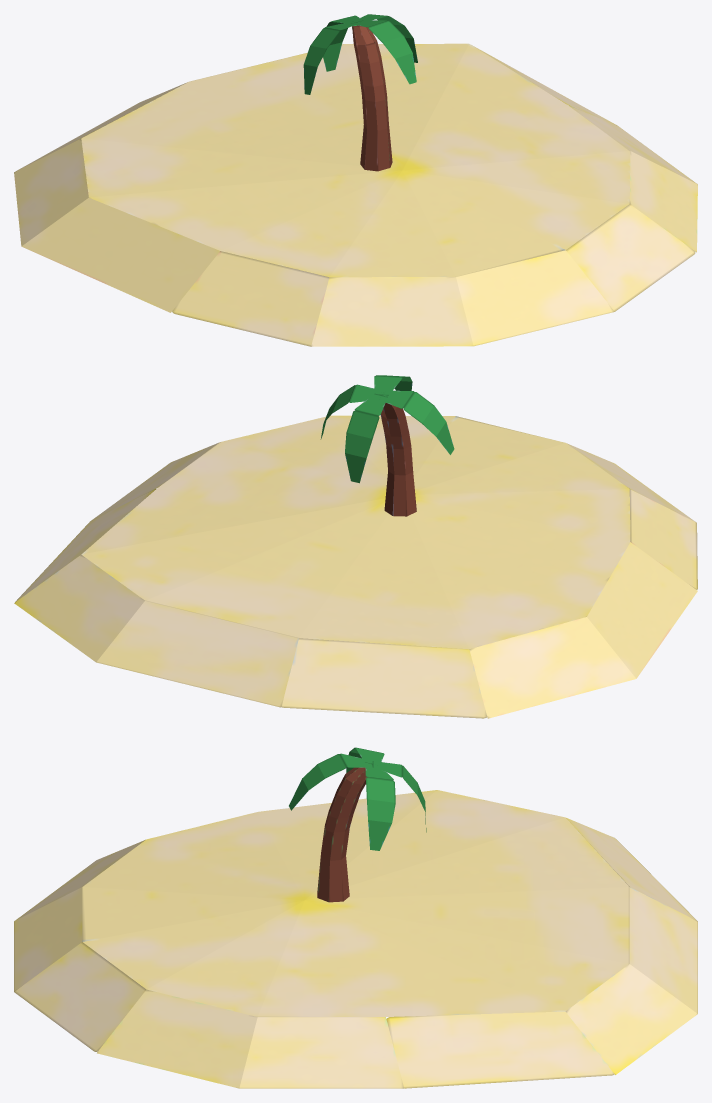
Rendered from island.fbx.
3 views of the same model, one above another, from view 1: azimuth 30°, elevation 25°; view 2: azimuth 150°, elevation 25°; view 3: azimuth 270°, elevation 25° (orthographic). The views are drawn at different scales.
Visible parts, largest first — view 1: island, tronco, plane_2, plane_1, plane; view 2: island, tronco, plane, plane_1, plane_3, plane_2; view 3: island, tronco, plane_3, plane_2, plane.
Boxes of the visible parts, box(x1,y1,x2,y2) form: island: box(14, 43, 697, 346); tronco: box(352, 25, 392, 171); plane_2: box(354, 20, 416, 84); plane_1: box(303, 21, 357, 94); plane: box(323, 15, 363, 71); island: box(14, 415, 697, 718); tronco: box(380, 403, 416, 516); plane: box(345, 393, 387, 483); plane_1: box(380, 390, 454, 454); plane_3: box(320, 384, 379, 439); plane_2: box(374, 375, 412, 395); island: box(14, 790, 697, 1088); tronco: box(317, 767, 367, 902); plane_3: box(365, 767, 395, 850); plane_2: box(289, 753, 372, 810); plane: box(372, 761, 426, 832).
Bounding box in the file's own units: 272 × 86.3 × 275.
Materials: 1 (1 with a texture image).
